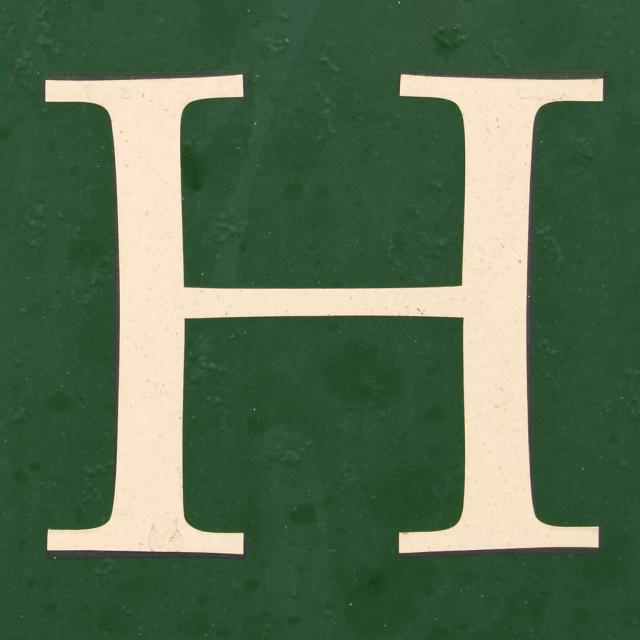H: (20, 25, 634, 611)
